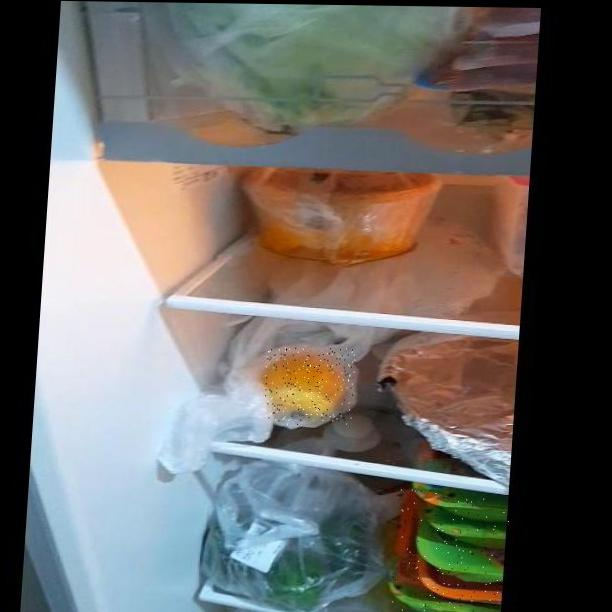chicken: (390, 487, 511, 612)
lemon: (262, 347, 356, 425)
